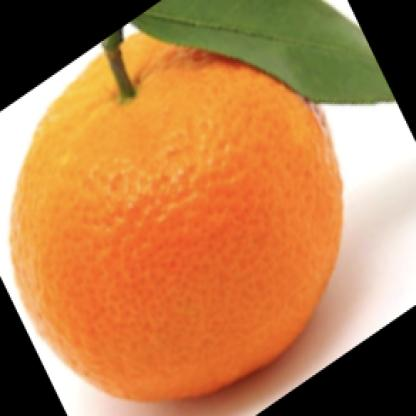fresh: (10, 29, 346, 400)
